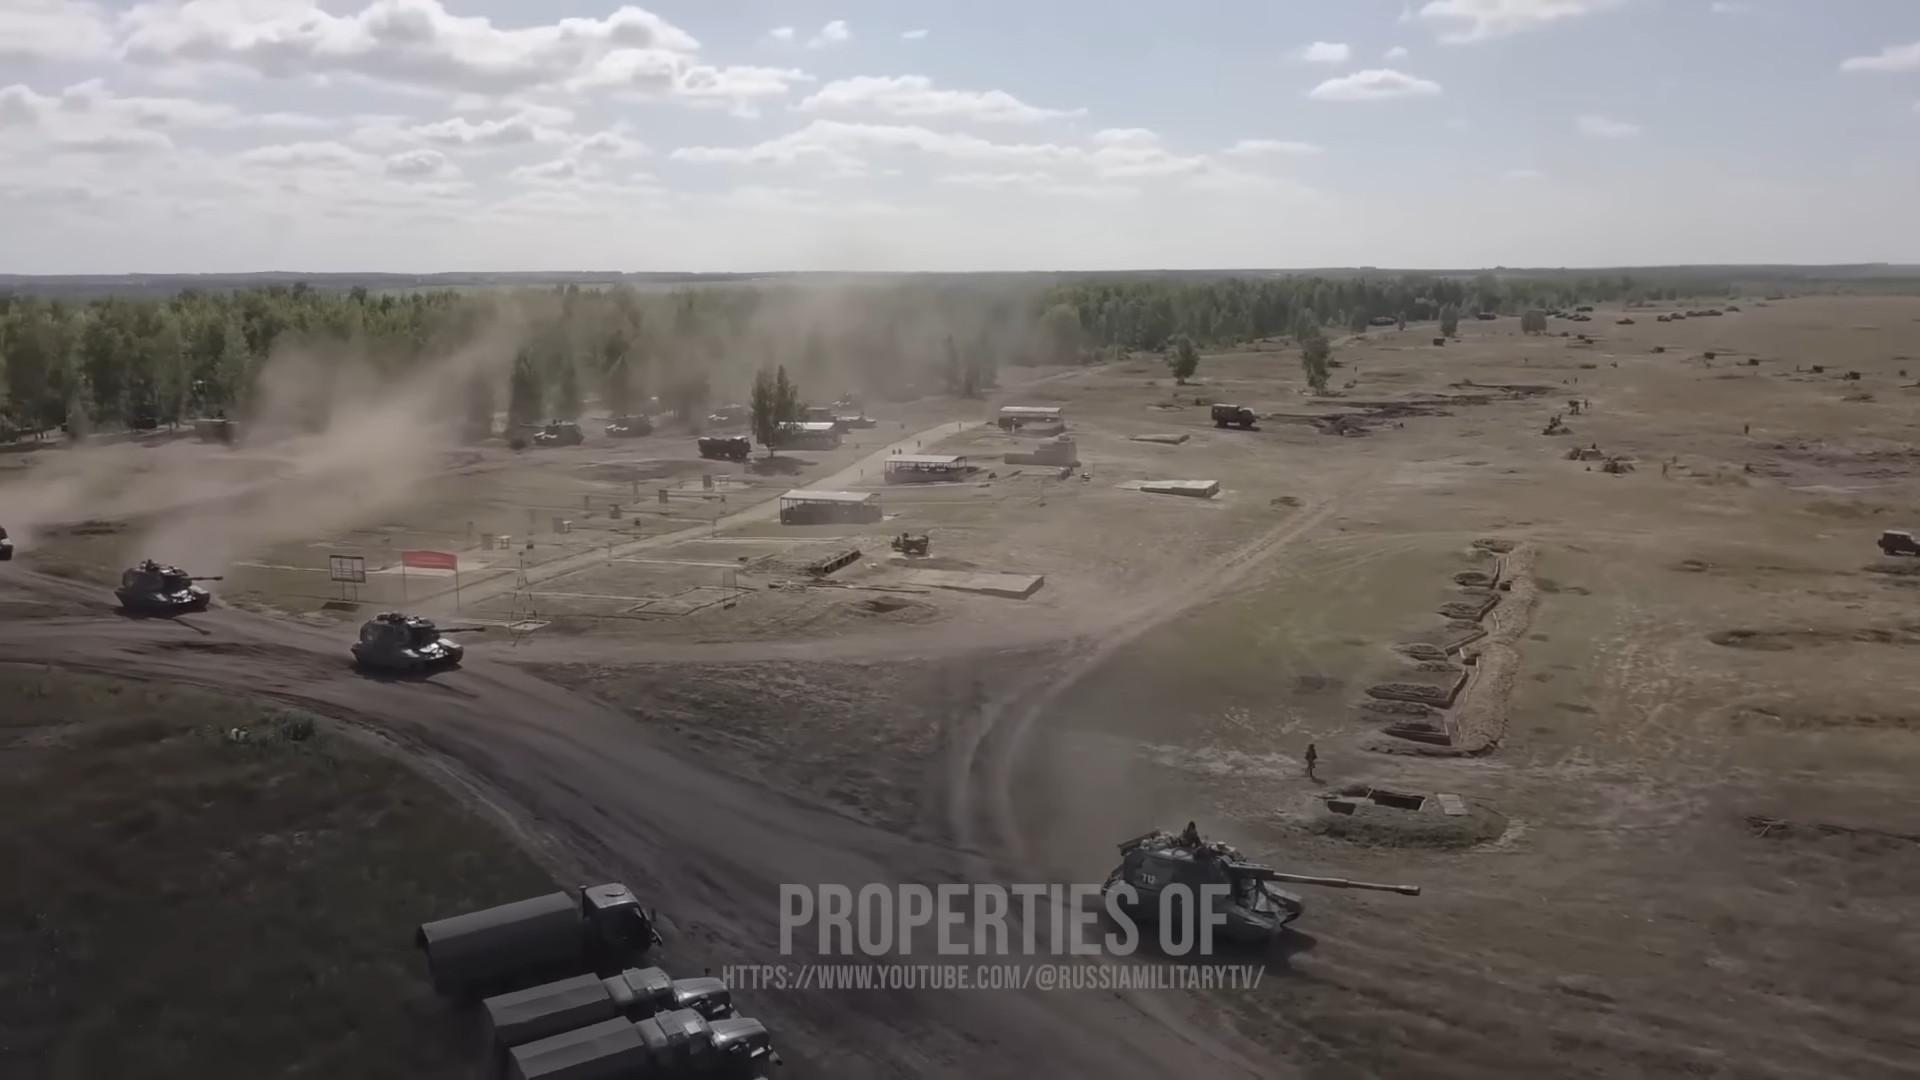tank: (1101, 831, 1419, 939), (351, 612, 484, 671), (115, 563, 223, 611), (520, 423, 583, 447), (592, 417, 651, 438)
